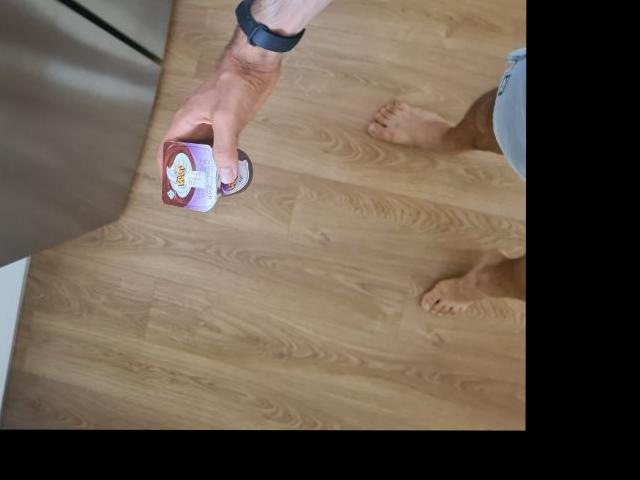milky: (160, 136, 254, 210)
